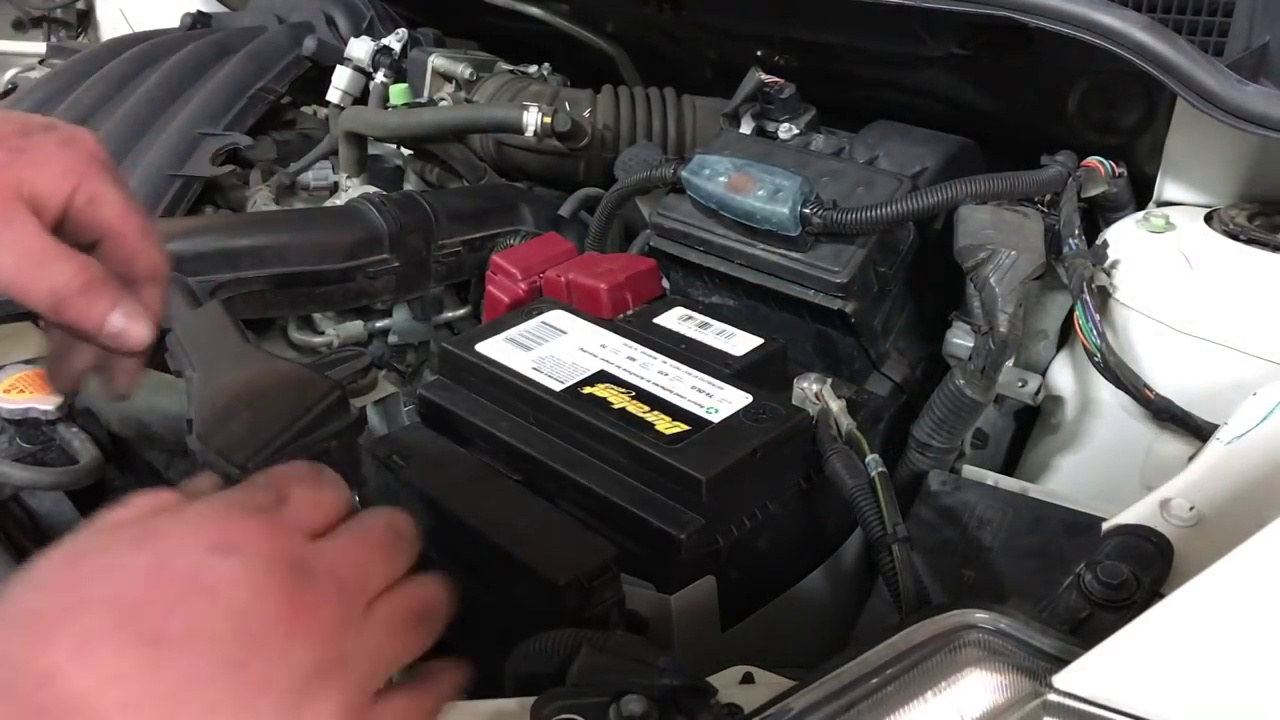battery: (431, 250, 876, 498)
neg_connected: (785, 357, 875, 475)
pos_connected: (469, 230, 674, 339)
